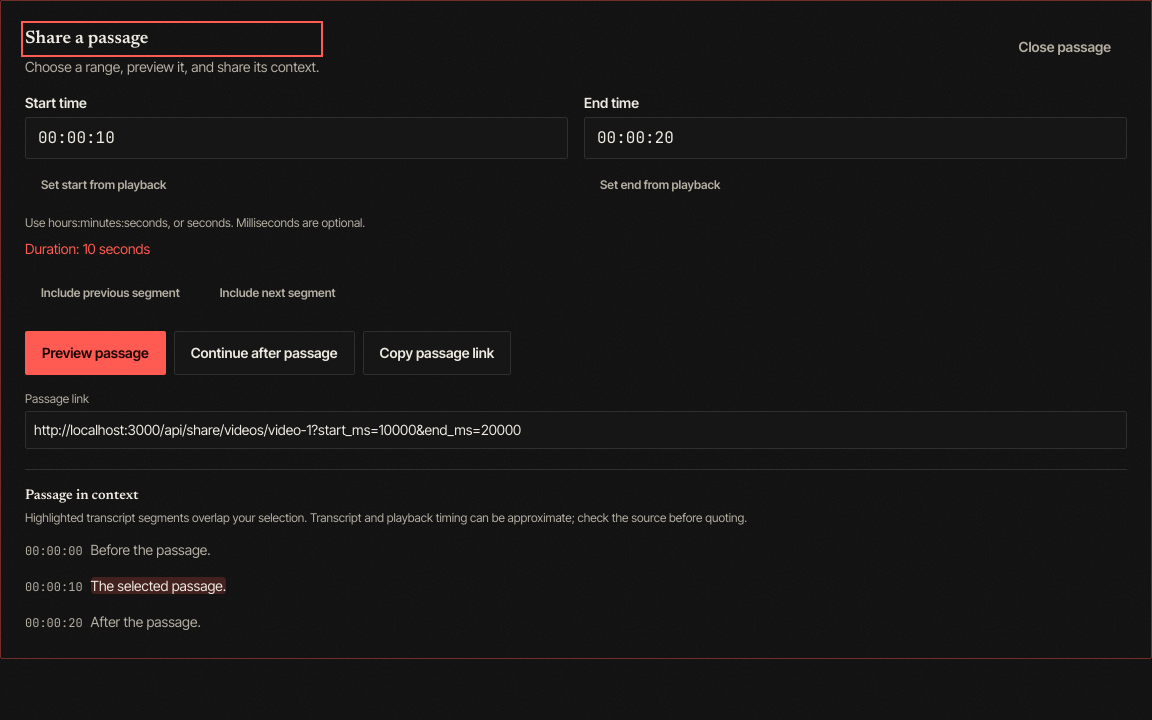
Test case: PassagePanel › provides manual copying on clipboard denial
The image size is (1152, 720).
Click the button "Copy passage link".
click(437, 353)  # box [363, 331, 511, 375]
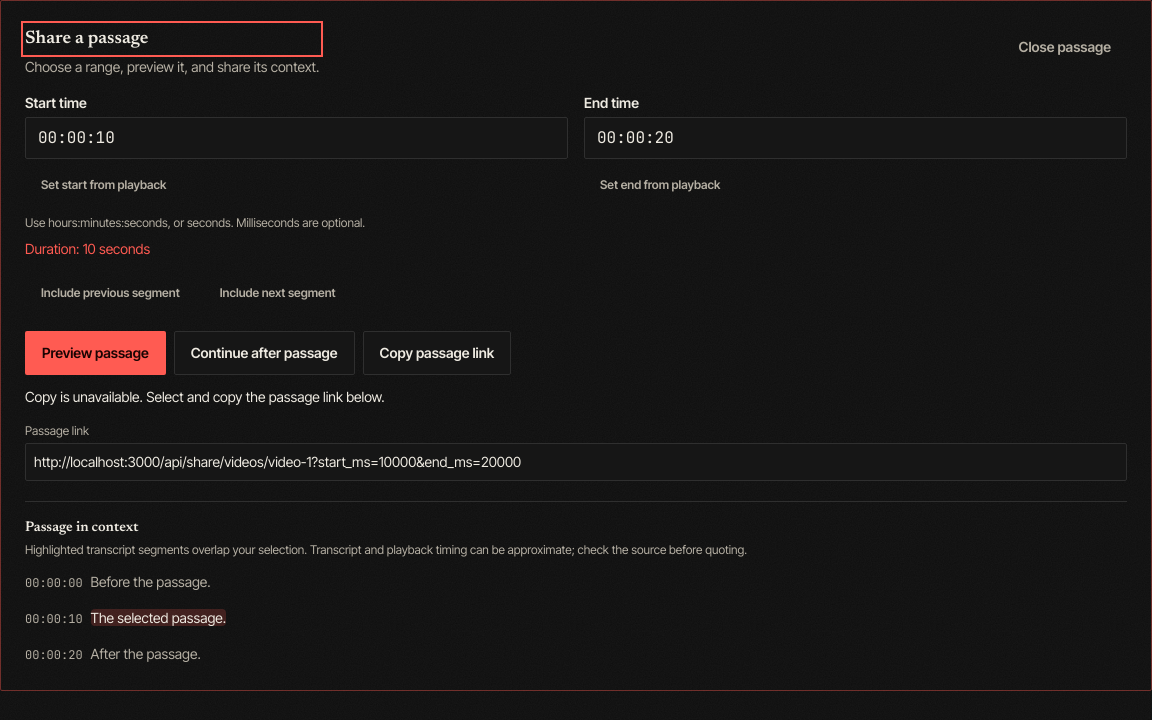
Expected: the text "Copy is unavailable. Select and copy the passage link below." is shown, [25, 388, 385, 405]
